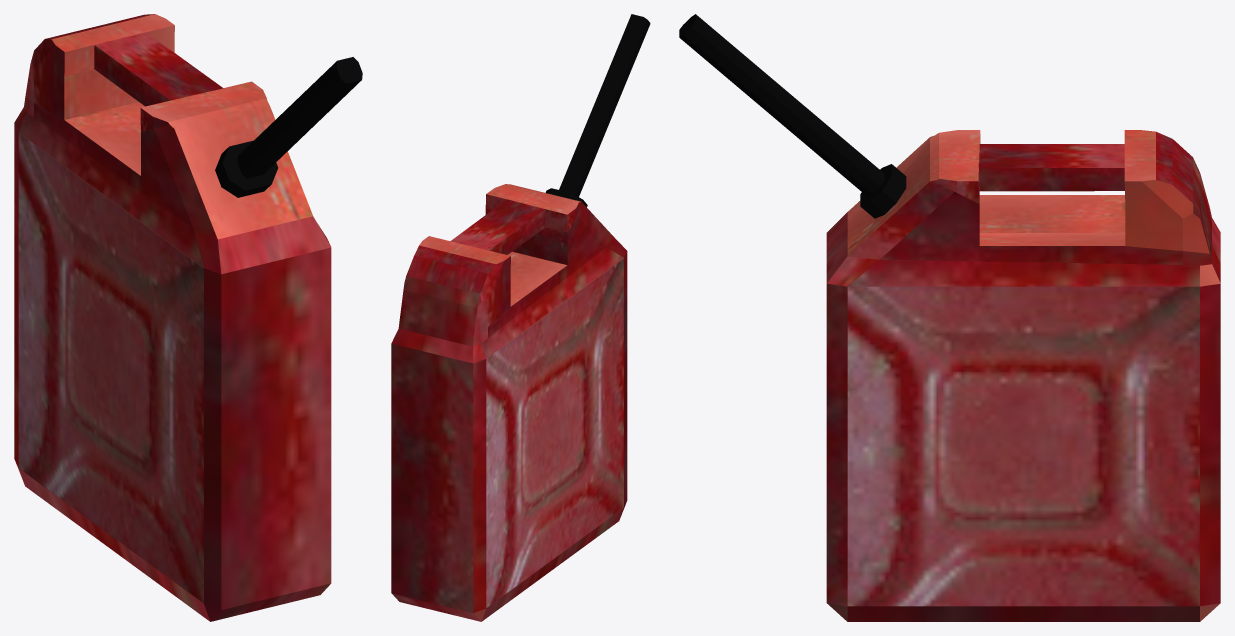
File: gascanister.fbx
3 renders of one model, left to right at view 1: azimuth 30°, elevation 25°; view 2: azimuth 150°, elevation 25°; view 3: azimuth 270°, elevation 25°, orthographic. The views are drawn at different scales.
Visible parts, largest first — view 1: gascanister; view 2: gascanister; view 3: gascanister.
Part boxes in pixels (bbox=[...]): gascanister: bbox=[14, 14, 362, 621]; gascanister: bbox=[391, 14, 650, 621]; gascanister: bbox=[679, 14, 1220, 621].
Size of the model in its own units: 22.77 by 108 by 91.19.
